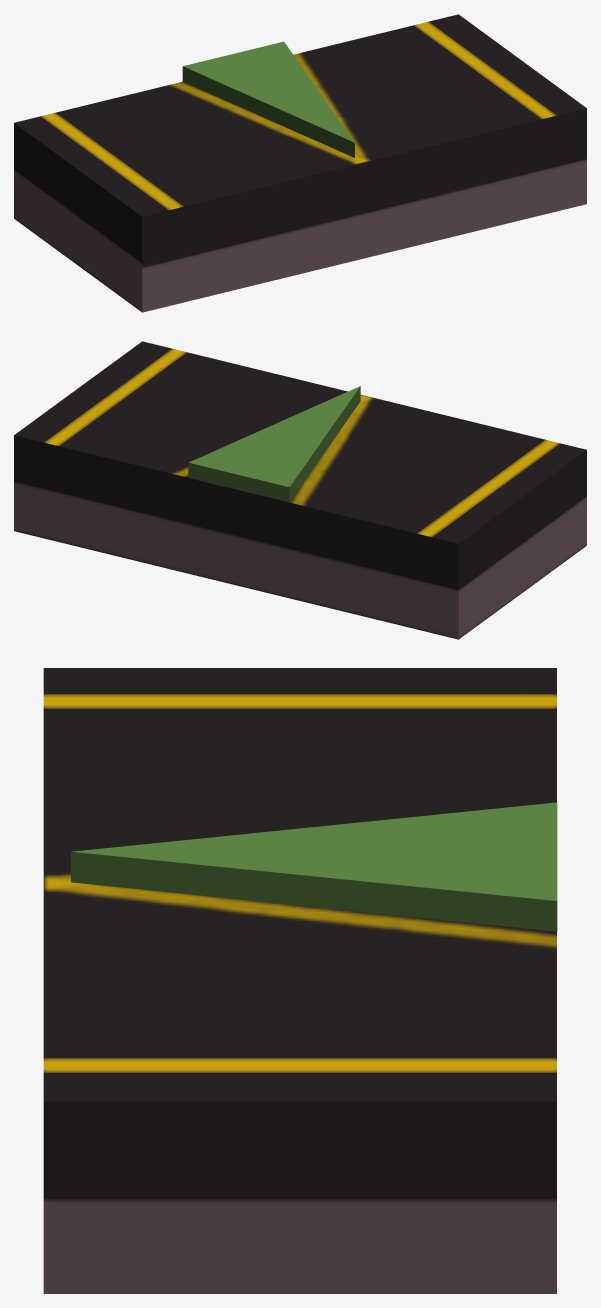
Rendered from roadStraight_divider_end.dae.
The picture shows the model from 3 angles, top to bottom: view 1: azimuth 30°, elevation 25°; view 2: azimuth 150°, elevation 25°; view 3: azimuth 270°, elevation 25°; orthographic projection. The views are drawn at different scales.
Parts seen in each view (by area): view 1: roadStraight_divider_end; view 2: roadStraight_divider_end; view 3: roadStraight_divider_end.
Part boxes in pixels (x1=…): roadStraight_divider_end: x1=14, y1=14, x2=586, y2=312; roadStraight_divider_end: x1=14, y1=341, x2=586, y2=639; roadStraight_divider_end: x1=43, y1=668, x2=557, y2=1293.
Size of the model in its own units: 2000 by 478 by 1001.
